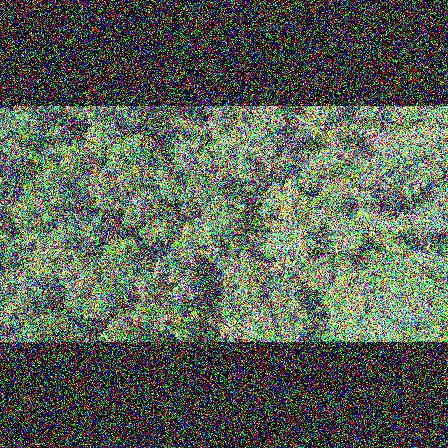Dead: (271, 130, 311, 171)
